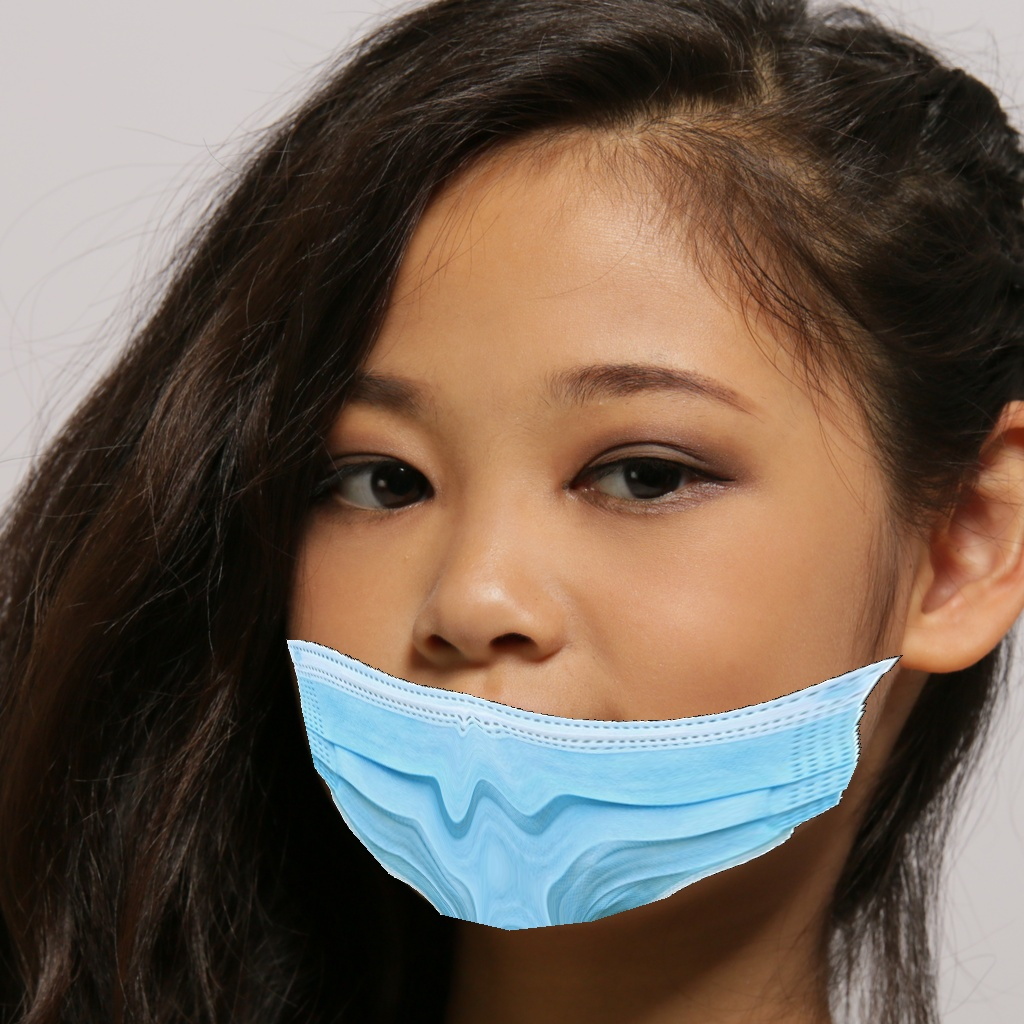mask_weared_incorrect: (222, 337, 918, 952)
